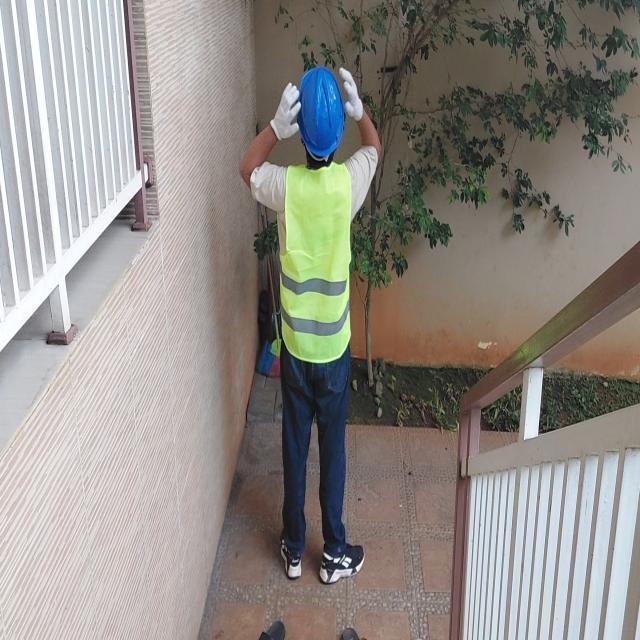helmet: (284, 60, 352, 156)
safety_vest: (273, 159, 359, 370)
